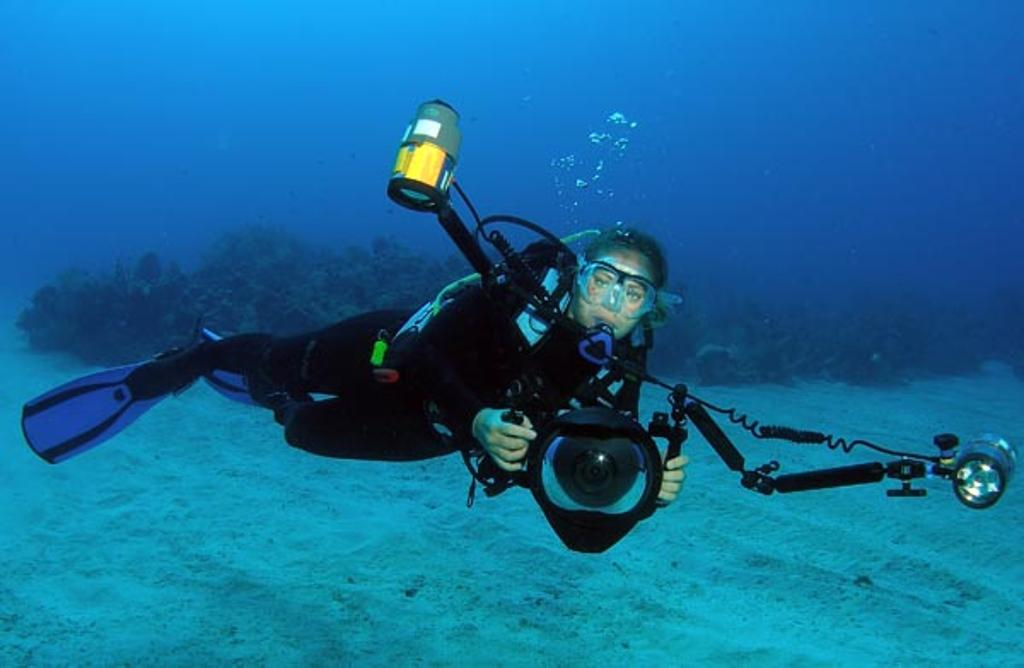face: (582, 246, 664, 338)
